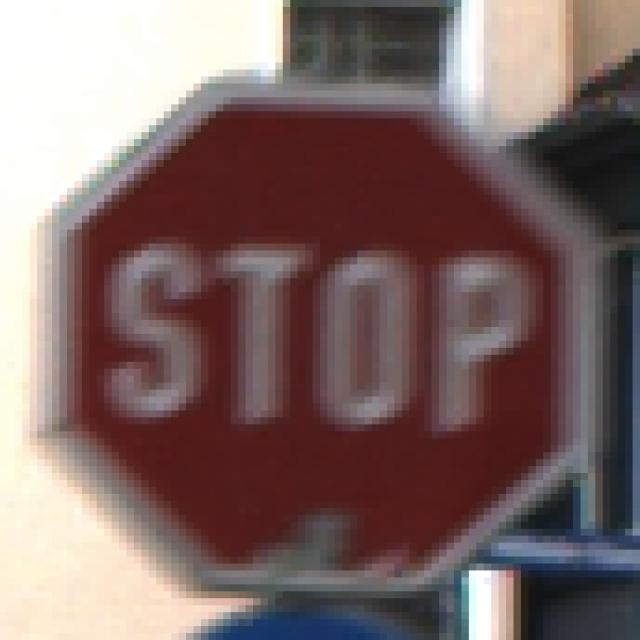STOP: (60, 64, 589, 585)
